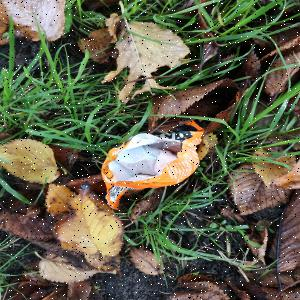Trash: (101, 120, 207, 212)
